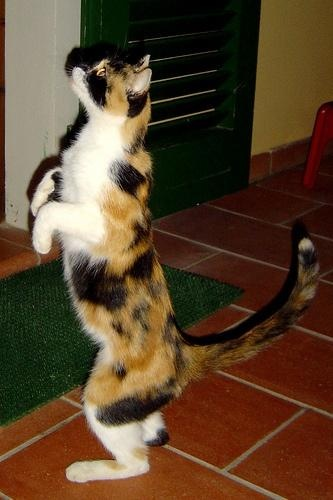cat: (32, 55, 320, 484)
